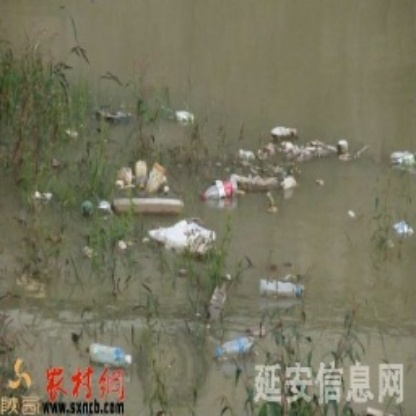bottle: (86, 340, 138, 371), (257, 275, 307, 301), (212, 335, 257, 361), (200, 181, 238, 202)
plastic-garbage: (145, 216, 220, 261)
